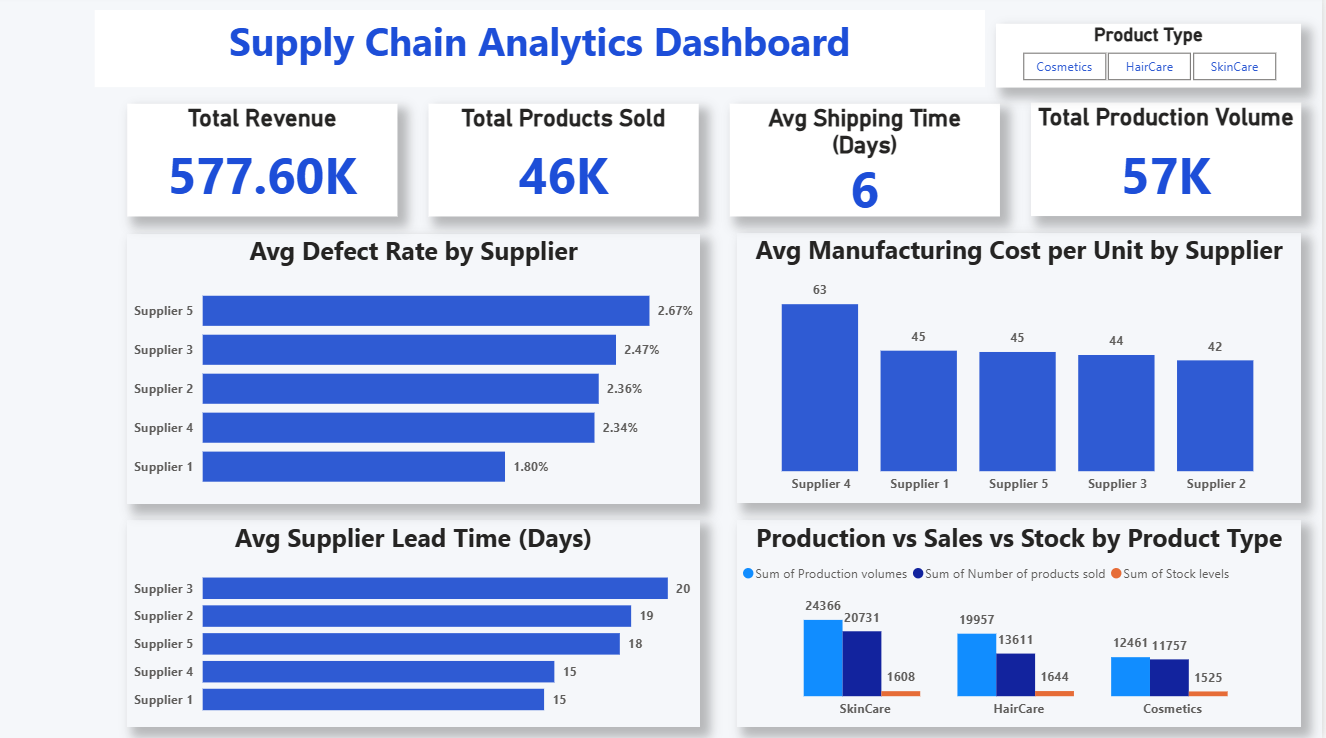

The page's visual inventory and layout, read from the dashboard file:
{"tool":"powerbi","page":{"name":"Supplier & Operations","canvas":[1280,720],"ordinal":1},"visuals":[{"type":"textbox","box":[95.3,14.5,859,74.8],"z":0},{"type":"card","title":"Total Revenue","fields":{"Values":["Sum(supply_chain_data (2).Revenue generated)"]},"box":[126.7,105,260.6,108.6],"z":1000},{"type":"card","title":"Total Products Sold","fields":{"Values":["Sum(supply_chain_data (2).Number of products sold)"]},"box":[417.4,105,260.6,108.6],"z":2000},{"type":"card","title":"Avg Shipping Time (Days)","fields":{"Values":["Avg(supply_chain_data (2).Shipping times(Days))"]},"box":[708.2,105,260.6,108.6],"z":3000},{"type":"card","title":"Total Production Volume","fields":{"Values":["Sum(supply_chain_data (2).Production volumes)"]},"box":[998.9,103.8,260.6,109.8],"z":4000},{"type":"clusteredBarChart","title":"Avg Defect Rate by Supplier","fields":{"Category":["supply_chain_data (2).Supplier name"],"Y":["Avg(supply_chain_data (2).Defect rates)"]},"box":[126.7,230.4,552.5,260.6],"z":5000},{"type":"clusteredColumnChart","title":"Avg Manufacturing Cost per Unit by Supplier","fields":{"Category":["supply_chain_data (2).Supplier name"],"Y":["Avg(supply_chain_data (2).Manufacturing costs)"]},"box":[715.4,229.2,544.1,260.6],"z":6000},{"type":"clusteredBarChart","title":"Avg Supplier Lead Time (Days)","fields":{"Category":["supply_chain_data (2).Supplier name"],"Y":["Avg(supply_chain_data (2).Supplier Lead Time (Days))"]},"box":[126.7,506.7,552.5,200.3],"z":7000},{"type":"clusteredColumnChart","title":"Production vs Sales vs Stock by Product Type","fields":{"Category":["supply_chain_data (2).Product type"],"Y":["Sum(supply_chain_data (2).Production volumes)","Sum(supply_chain_data (2).Number of products sold)","Sum(supply_chain_data (2).Stock levels)"]},"box":[715.4,506.7,544.1,200.3],"z":8000},{"type":"slicer","title":"Product Type","fields":{"Values":["supply_chain_data (2).Product type"]},"box":[965.2,27.7,294.4,61.5],"z":9000}]}

Visuals, with their boxes in screenshot pixels (x1, y1, x2, y2), scaled from the page's 1280x720 canvas onto the 1326x738 screenshot:
textbox: detection(99, 15, 989, 92)
"Total Revenue" card: detection(131, 108, 401, 219)
"Total Products Sold" card: detection(432, 108, 702, 219)
"Avg Shipping Time (Days)" card: detection(734, 108, 1004, 219)
"Total Production Volume" card: detection(1035, 106, 1305, 219)
"Avg Defect Rate by Supplier" clusteredBarChart: detection(131, 236, 704, 503)
"Avg Manufacturing Cost per Unit by Supplier" clusteredColumnChart: detection(741, 235, 1305, 502)
"Avg Supplier Lead Time (Days)" clusteredBarChart: detection(131, 519, 704, 725)
"Production vs Sales vs Stock by Product Type" clusteredColumnChart: detection(741, 519, 1305, 725)
"Product Type" slicer: detection(1000, 28, 1305, 91)
